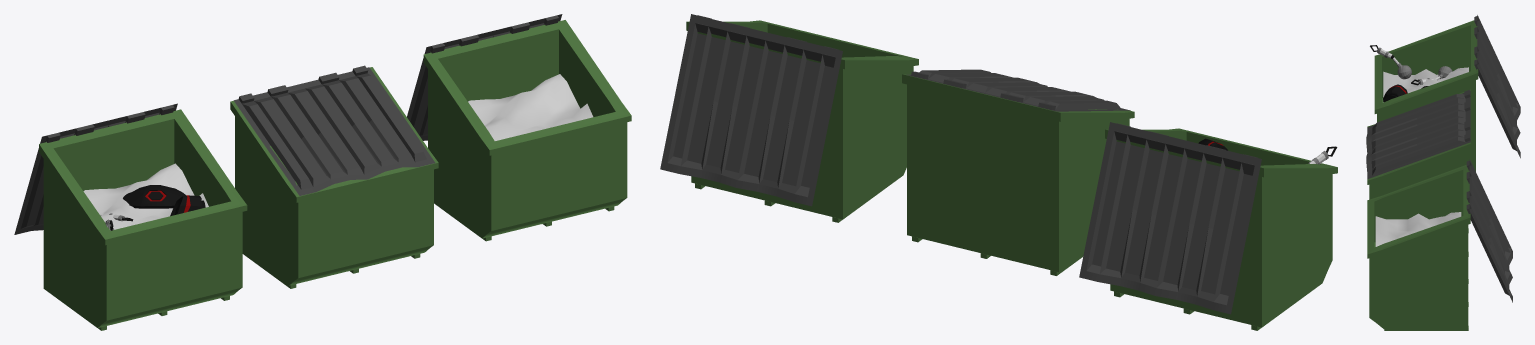
The model's file is DumpsterVariations.fbx.
The picture shows the model from 3 angles, left to right: view 1: azimuth 30°, elevation 25°; view 2: azimuth 150°, elevation 25°; view 3: azimuth 270°, elevation 25°; orthographic projection. The views are drawn at different scales.
Parts seen in each view (by area): view 1: polySurface11, polySurface28, polySurface21; view 2: polySurface11, polySurface28, polySurface21; view 3: polySurface28, polySurface11, polySurface21.
Boxes of the visible parts, x1,y1,x2,y2 form: polySurface11: (14, 103, 247, 330); polySurface28: (407, 14, 631, 238); polySurface21: (230, 65, 438, 285); polySurface11: (1079, 122, 1337, 330); polySurface28: (660, 14, 918, 219); polySurface21: (902, 69, 1134, 271); polySurface28: (1367, 159, 1512, 330); polySurface11: (1370, 15, 1520, 171); polySurface21: (1366, 89, 1470, 256).
Bounding box in the file's own units: 59.44 × 16.98 × 19.45.
